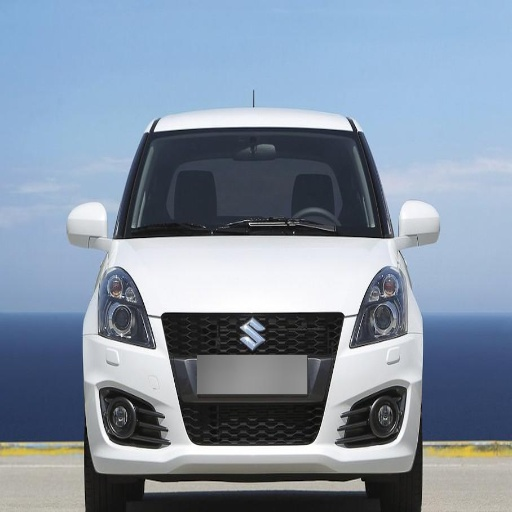front_bumper: (88, 312, 421, 494)
front_right_light: (98, 270, 155, 349)
hood: (118, 237, 388, 314)
left_mirror: (398, 201, 441, 244)
